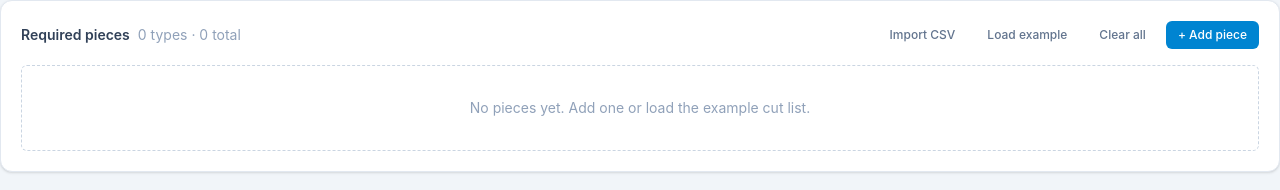
Test: PieceTable › adds an editable row via "+ Add piece"
The width and height of the screenshot is (1280, 190).
Click the button "+ Add piece".
click(1212, 35)  # box [1166,21,1259,49]
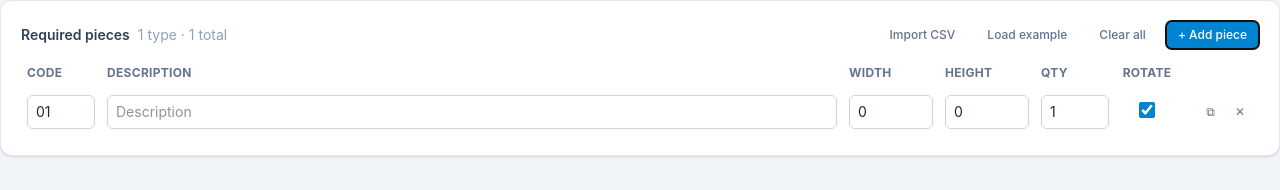
Expected: the field named "Piece code" holds "01", [27,95,95,129]
